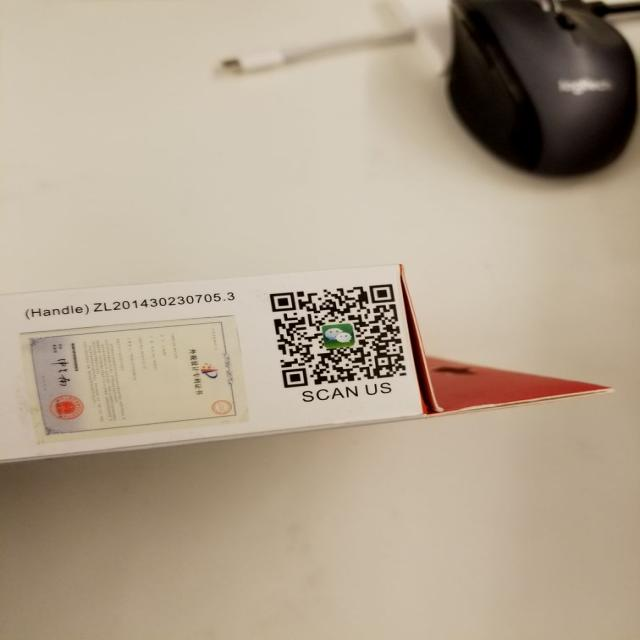QRCode: (260, 277, 425, 394)
